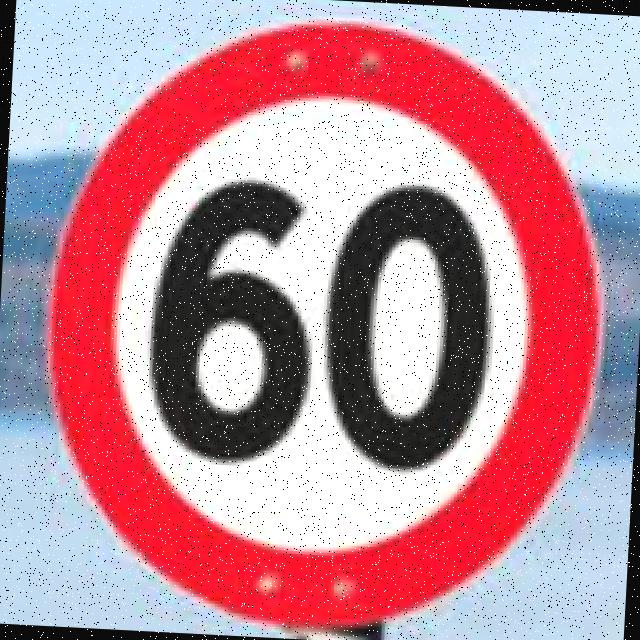Ograniczenie predkosci do 60: (34, 8, 615, 640)
